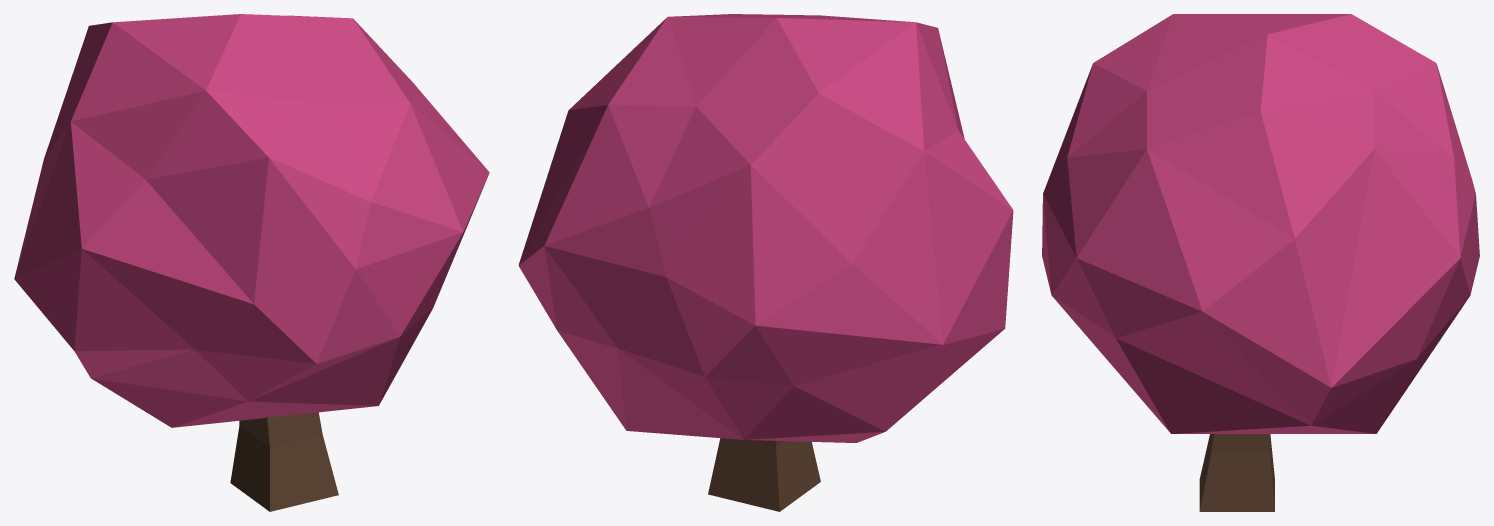
File: Tree_31_Pink.fbx
The picture shows the model from 3 angles, left to right: view 1: azimuth 30°, elevation 25°; view 2: azimuth 150°, elevation 25°; view 3: azimuth 270°, elevation 25°; orthographic projection. The views are drawn at different scales.
Visible parts, largest first — view 1: Tree_31_Pink_Part_1, Tree_31_Pink_Part_2; view 2: Tree_31_Pink_Part_1, Tree_31_Pink_Part_2; view 3: Tree_31_Pink_Part_1, Tree_31_Pink_Part_2.
Boxes of the visible parts, box(x1,y1,x2,y2) form: Tree_31_Pink_Part_1: box(14, 14, 489, 427); Tree_31_Pink_Part_2: box(230, 412, 338, 511); Tree_31_Pink_Part_1: box(518, 14, 1013, 442); Tree_31_Pink_Part_2: box(708, 438, 820, 511); Tree_31_Pink_Part_1: box(1042, 14, 1479, 433); Tree_31_Pink_Part_2: box(1199, 434, 1274, 511).
Bounding box in the file's own units: 732 × 807 × 713.
